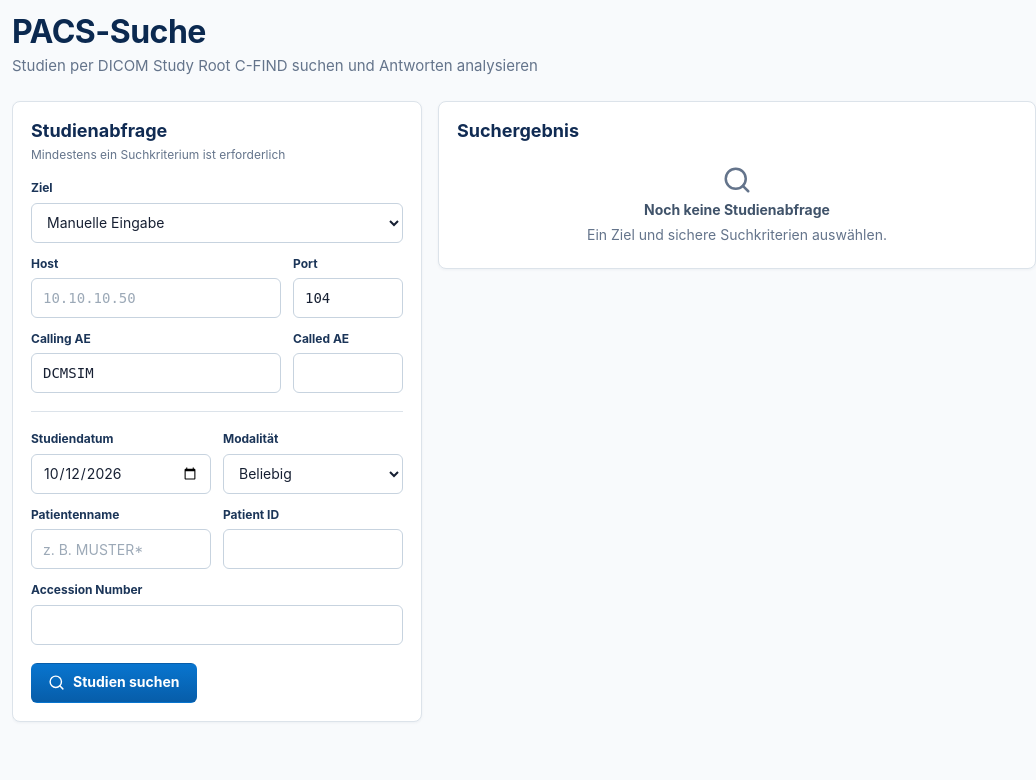
does not display a late response for inputs changed during the request
The image size is (1036, 780).
Type "127.0.0.1" into the field labelled "Host" at (156, 298), box [31,278,281,318]
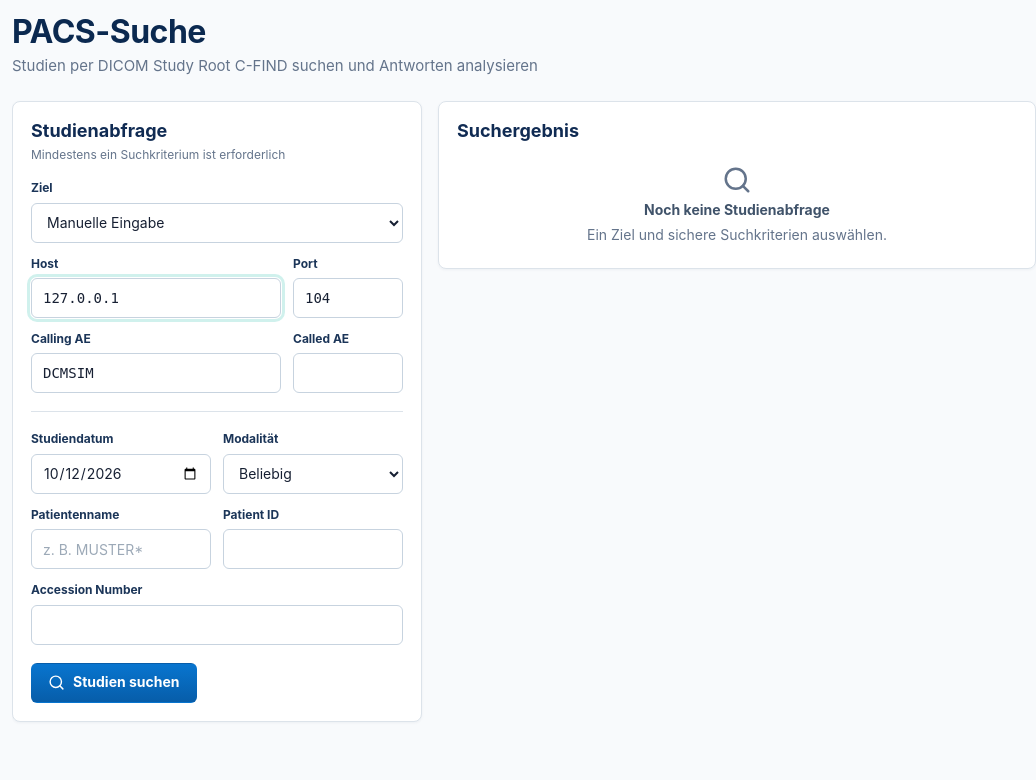
Type "PACSQR" into the field labelled "Called AE" at (348, 373), box [293,353,403,393]
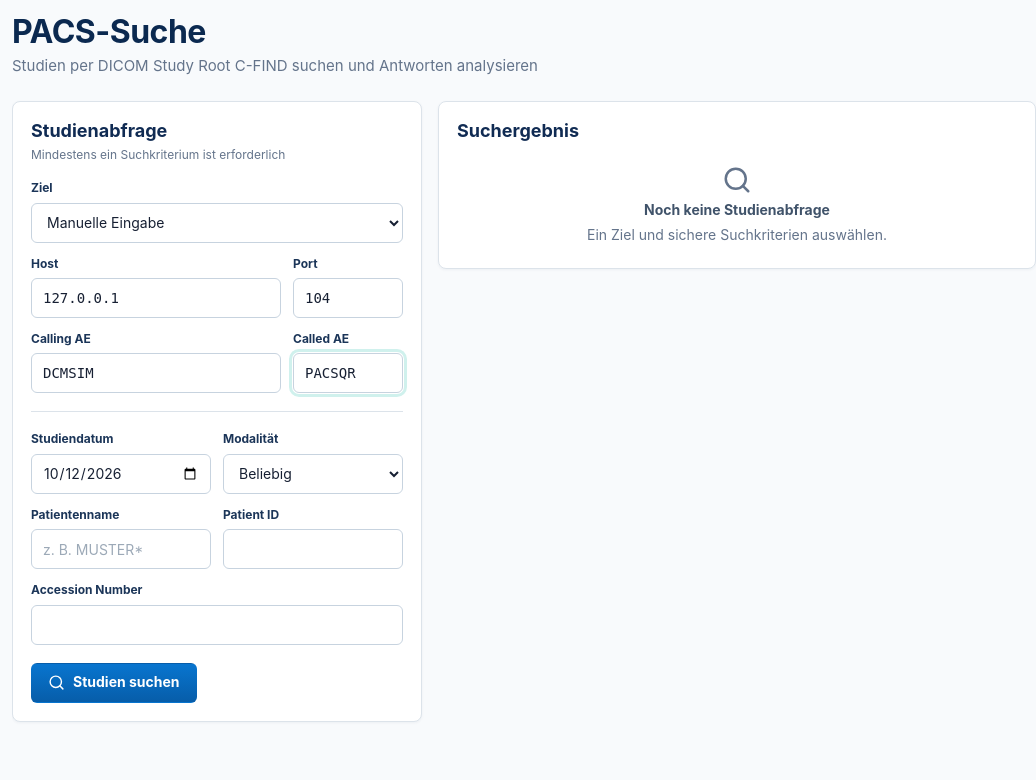
Click the button "Studien suchen" at (114, 683), box [31,663,197,703]
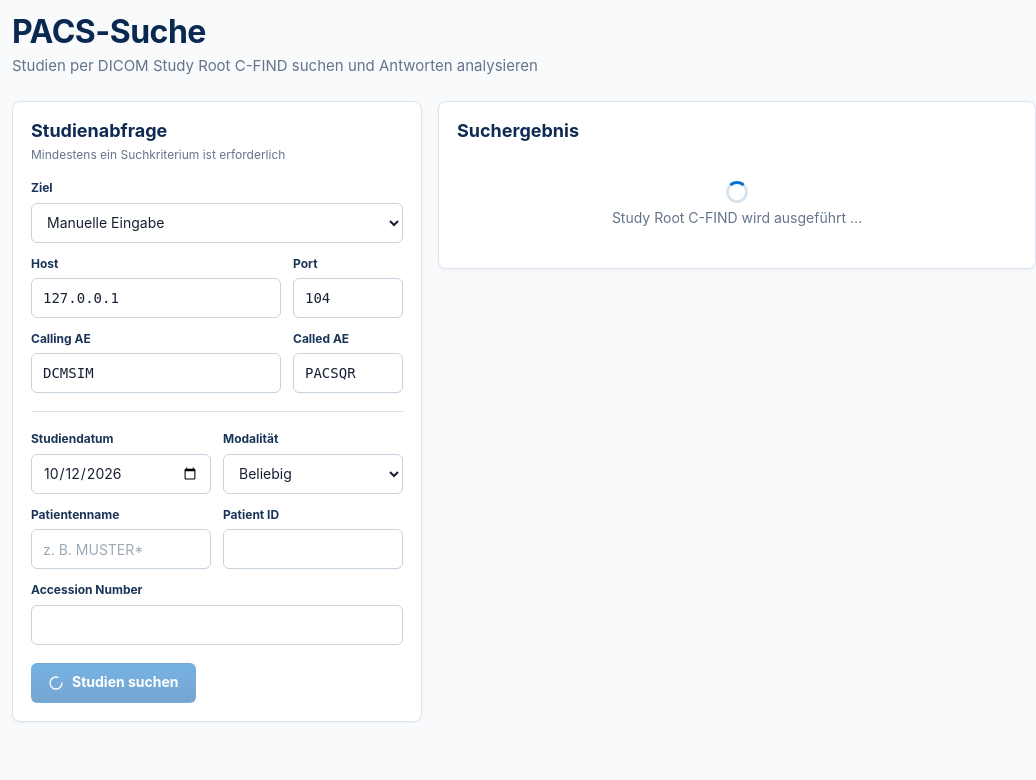
Type "P2" into the field labelled "Patient ID" at (313, 549), box [223,529,403,569]
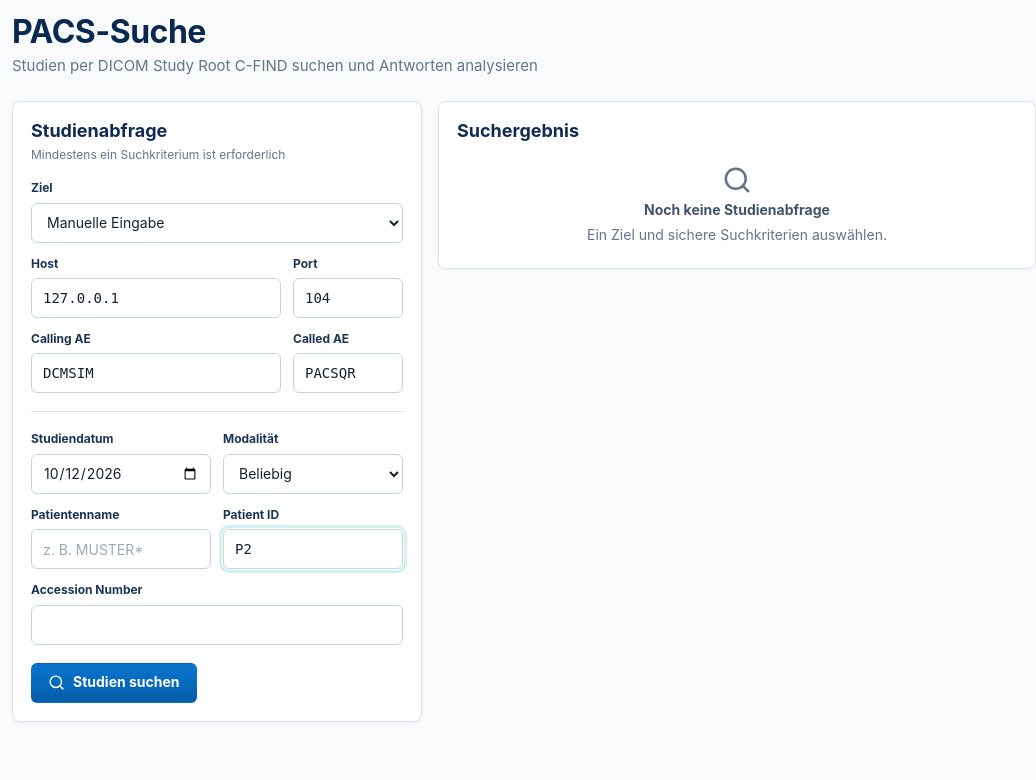
Expected: the button "Studien suchen" is enabled
Click the button "Studien suchen" at (114, 683), box [31,663,197,703]
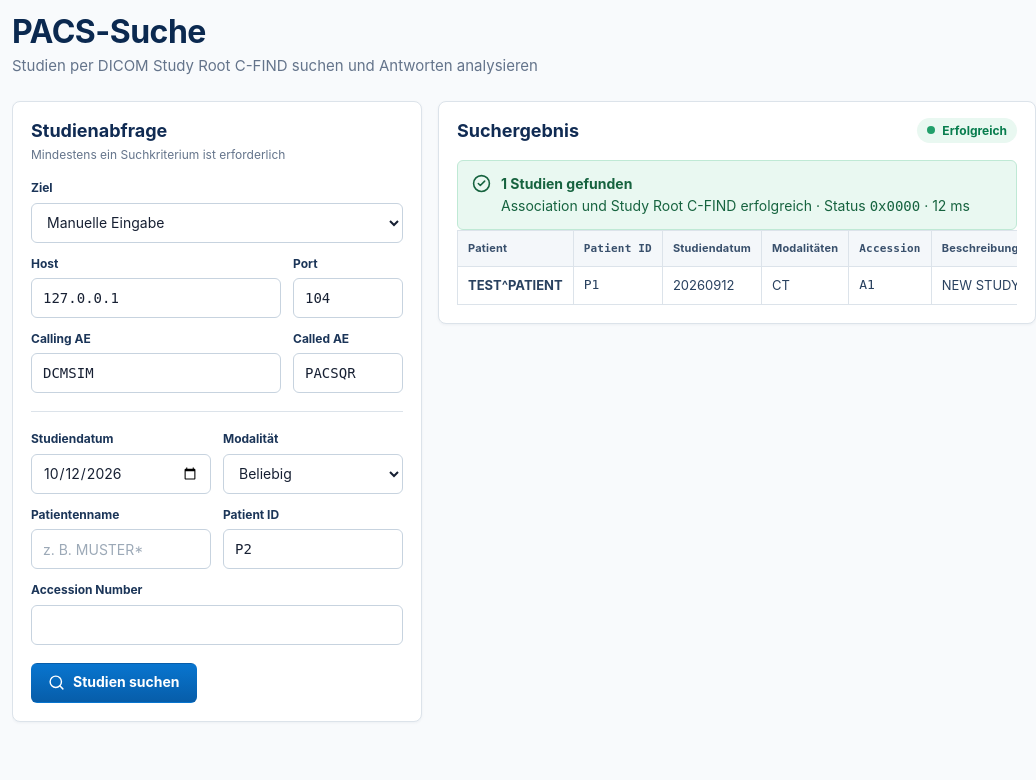
Expected: the text "NEW STUDY" is shown, [931,267,1017,305]
